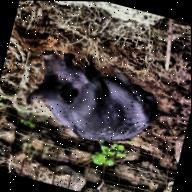boar: (8, 39, 170, 162)
